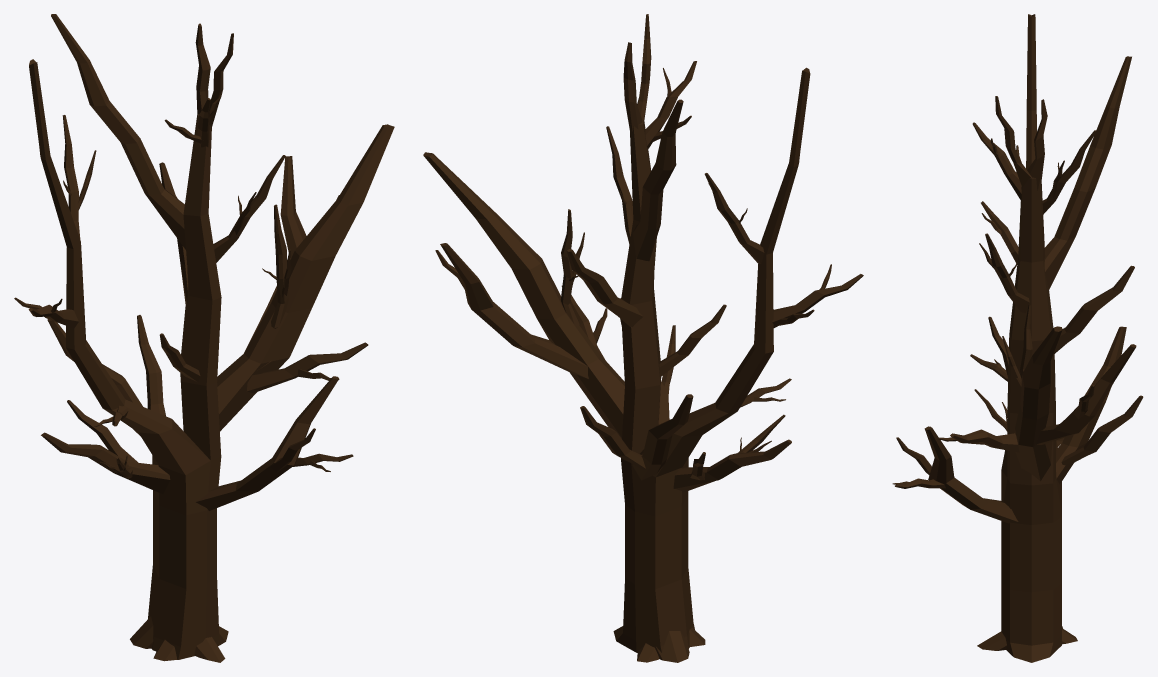
File: tree.glb
3 views of the same model, side by side, from view 1: azimuth 30°, elevation 25°; view 2: azimuth 150°, elevation 25°; view 3: azimuth 270°, elevation 25° (orthographic). The views are drawn at different scales.
Visible parts, largest first — view 1: Plane, Plane.006, Plane.021, Plane.002, Plane.019, Plane.015, Plane.007, Plane.004, Plane.037, Plane.025, Plane.022, Plane.035 (+6 smaller); view 2: Plane, Plane.006, Plane.007, Plane.021, Plane.003, Plane.019, Plane.009, Plane.022, Plane.004, Plane.027, Plane.025, Plane.035 (+5 smaller); view 3: Plane, Plane.021, Plane.006, Plane.002, Plane.007, Plane.003, Plane.009, Plane.004, Plane.025, Plane.015, Plane.034, Plane.035 (+4 smaller).
Boxes of the visible parts, x1,y1,x2,y2 form: Plane: [29, 59, 228, 659]; Plane.006: [217, 124, 394, 431]; Plane.021: [51, 14, 185, 249]; Plane.002: [195, 376, 338, 510]; Plane.019: [41, 432, 170, 494]; Plane.015: [247, 342, 368, 393]; Plane.007: [244, 156, 306, 367]; Plane.004: [137, 315, 165, 415]; Plane.037: [271, 204, 288, 328]; Plane.025: [213, 155, 285, 262]; Plane.022: [62, 115, 80, 239]; Plane.035: [195, 23, 210, 116]; Plane: [613, 67, 810, 652]; Plane.006: [423, 152, 624, 438]; Plane.007: [440, 243, 588, 378]; Plane.021: [633, 99, 683, 261]; Plane.003: [632, 394, 693, 480]; Plane.019: [673, 439, 791, 492]; Plane.009: [567, 249, 643, 327]; Plane.022: [704, 173, 764, 263]; Plane.004: [580, 406, 645, 469]; Plane.027: [771, 274, 863, 327]; Plane.025: [606, 126, 633, 244]; Plane.035: [623, 42, 642, 131]; Plane: [1001, 14, 1061, 662]; Plane.021: [1044, 56, 1131, 289]; Plane.006: [1014, 326, 1062, 481]; Plane.002: [924, 426, 1018, 523]; Plane.007: [1015, 344, 1136, 444]; Plane.003: [1056, 326, 1126, 484]; Plane.009: [1053, 265, 1134, 353]; Plane.004: [1061, 395, 1143, 465]; Plane.025: [985, 233, 1029, 313]; Plane.015: [950, 429, 1019, 452]; Plane.034: [995, 96, 1032, 187]; Plane.035: [1027, 99, 1047, 190].
Bounding box in the file's own units: 11.51 × 16.75 × 6.78.
